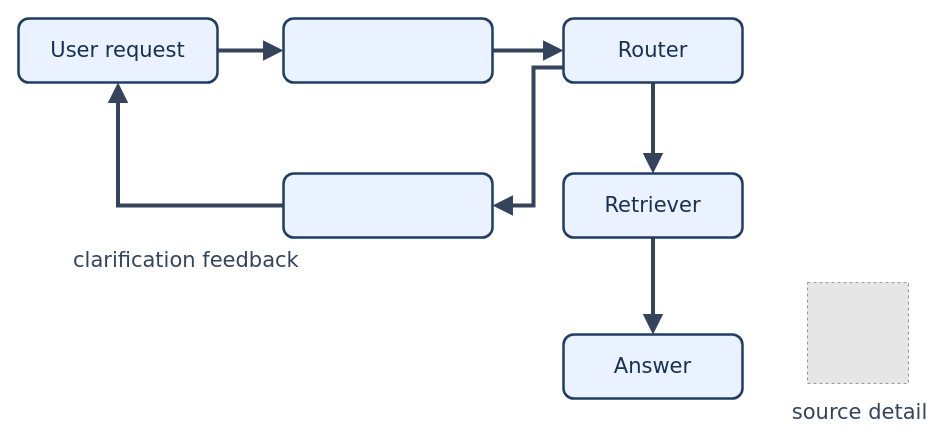
Some shapes in this 950 by 445 pixel diagram are drawn without their labels. Grey dashed boxes stand in for pictures. The box of each missing label's shape, as (x1, y1, x2, y2) in pixels:
Clarify: (282, 172, 493, 238)
Version state: (282, 17, 493, 83)
